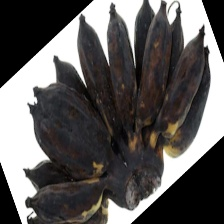banana: (46, 30, 211, 185)
